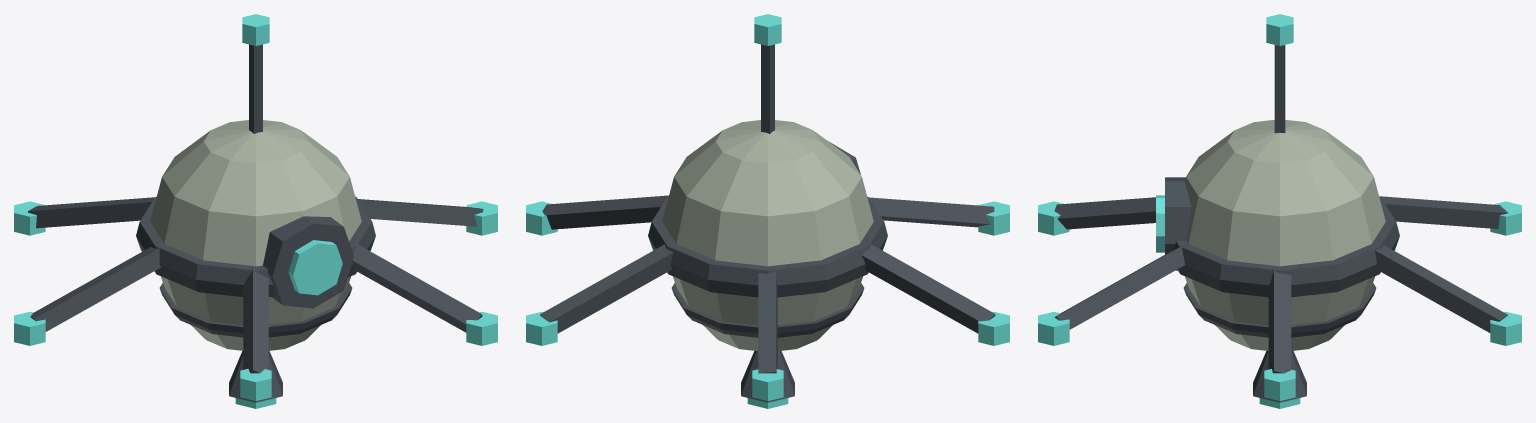
Rendered from SH_ProbeDrone_01.glb.
3 renders of one model, left to right at view 1: azimuth 30°, elevation 25°; view 2: azimuth 150°, elevation 25°; view 3: azimuth 270°, elevation 25°, orthographic.
Parts seen in each view (by area): view 1: SH_ProbeDrone_01; view 2: SH_ProbeDrone_01; view 3: SH_ProbeDrone_01.
Boxes of the visible parts, <box> form: SH_ProbeDrone_01: <box>14,14,497,408</box>; SH_ProbeDrone_01: <box>526,14,1009,408</box>; SH_ProbeDrone_01: <box>1038,14,1521,408</box>.
Bounding box in the file's own units: 2.14 × 1.6 × 1.85.
Materials: 1 (1 with a texture image).
